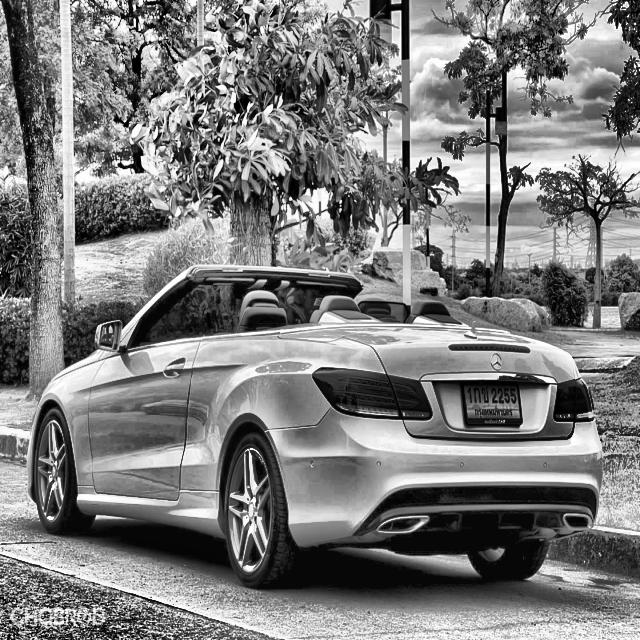license-plate: (456, 370, 530, 437)
